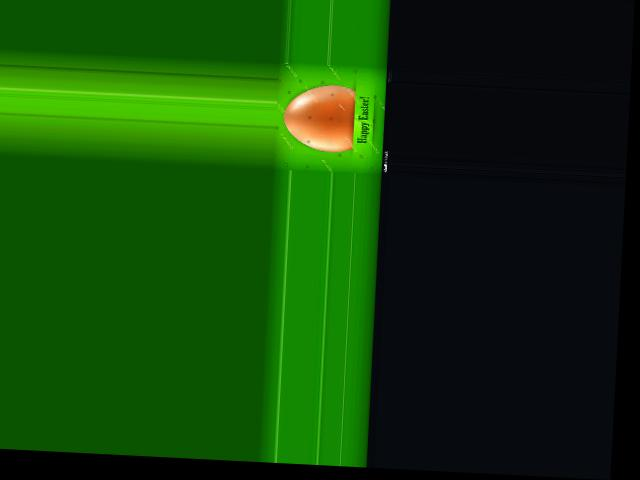egg: (282, 82, 355, 152)
